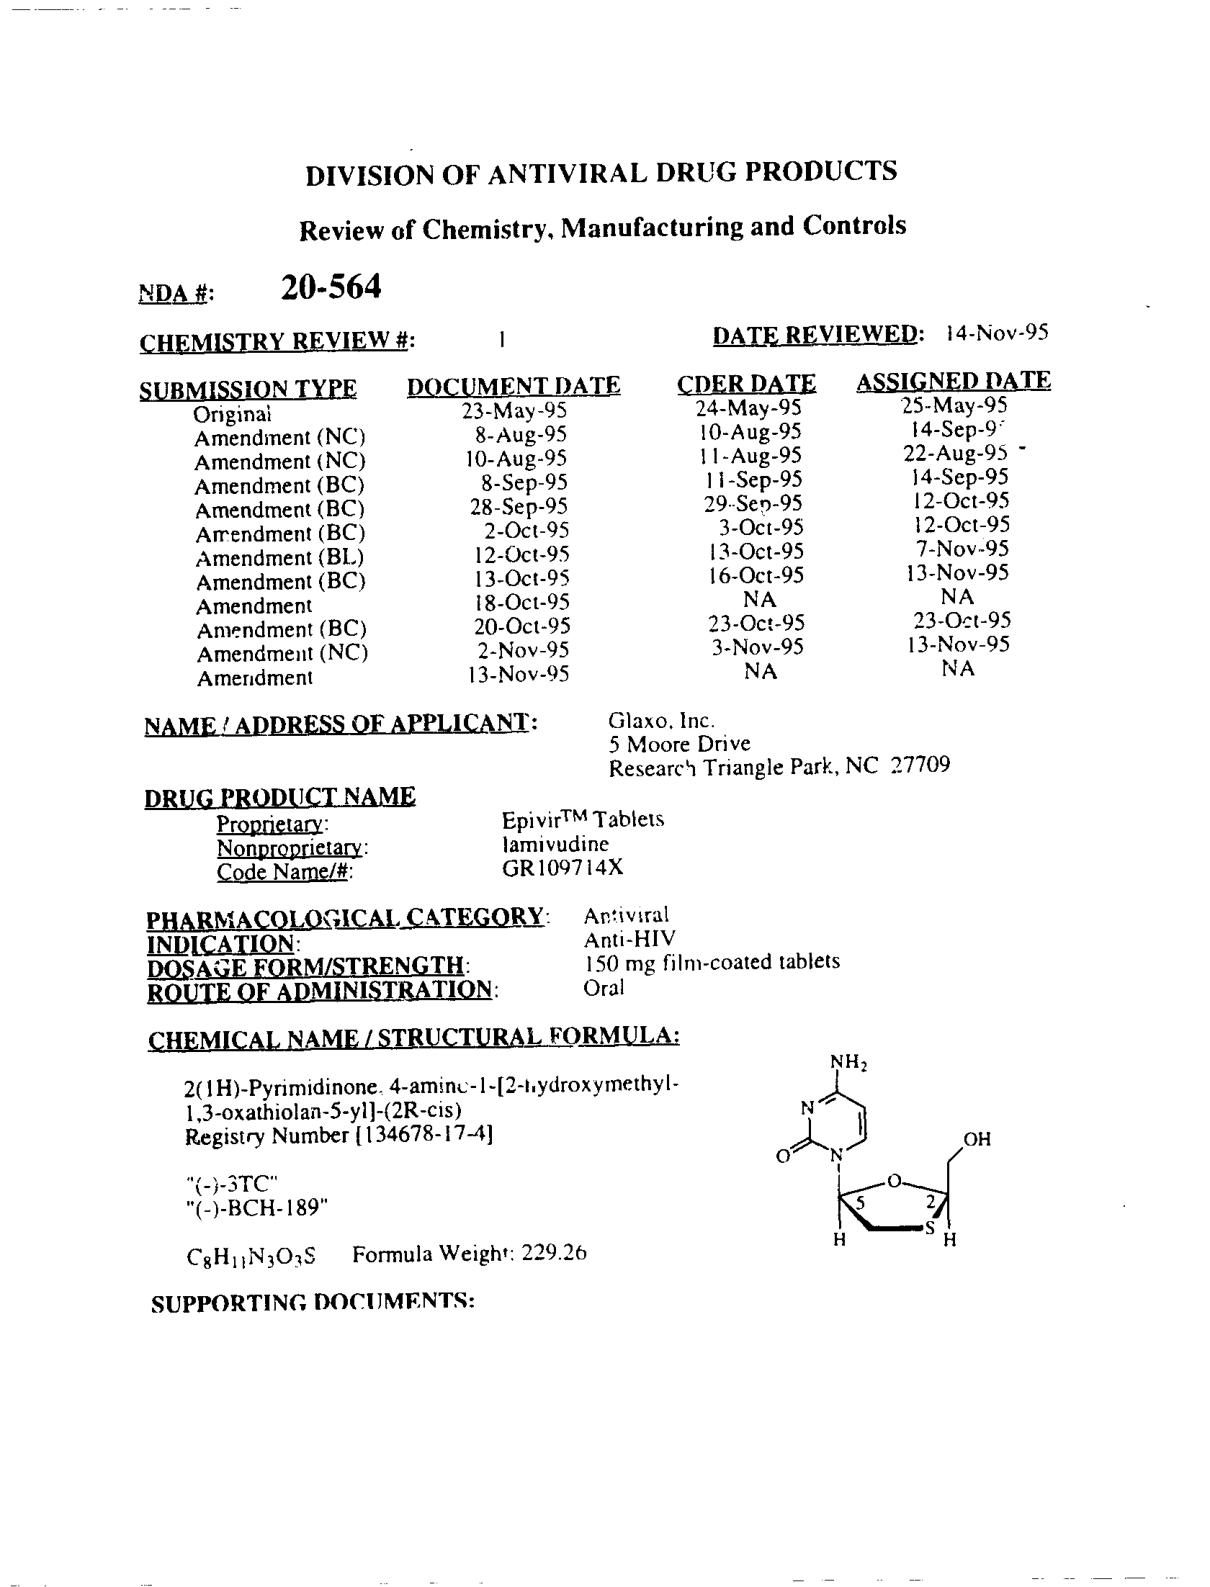nolines: (137, 367, 1057, 690), (142, 902, 844, 1006), (144, 708, 955, 780), (140, 785, 665, 882)
